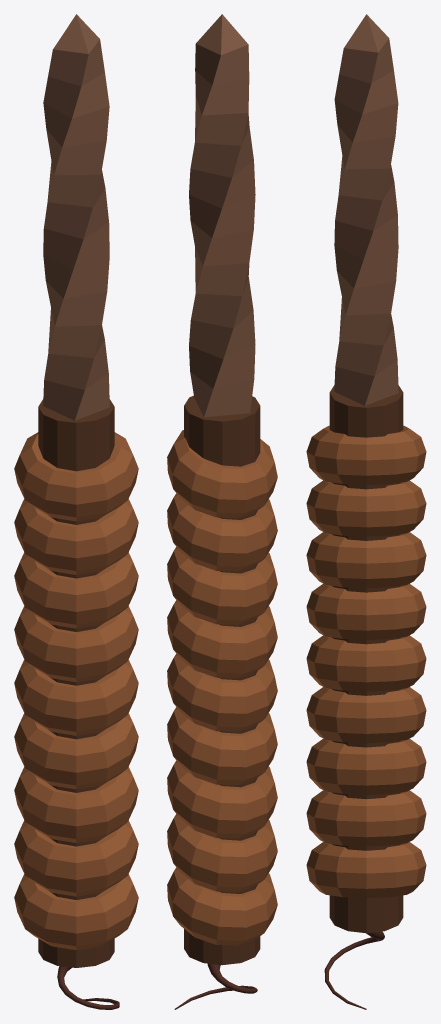
Rendered from Wand 459.glb.
The picture shows the model from 3 angles, left to right: view 1: azimuth 90°, elevation 25°; view 2: azimuth 150°, elevation 25°; view 3: azimuth 270°, elevation 25°; orthographic projection. The views are drawn at different scales.
Parts seen in each view (by area): view 1: GeneratedWand; view 2: GeneratedWand; view 3: GeneratedWand.
Boxes of the visible parts, <box> form: GeneratedWand: <box>14,14,138,1009</box>; GeneratedWand: <box>167,14,277,1009</box>; GeneratedWand: <box>306,14,426,1009</box>.
Size of the model in its own units: 0.0508 by 0.5202 by 0.0581.
